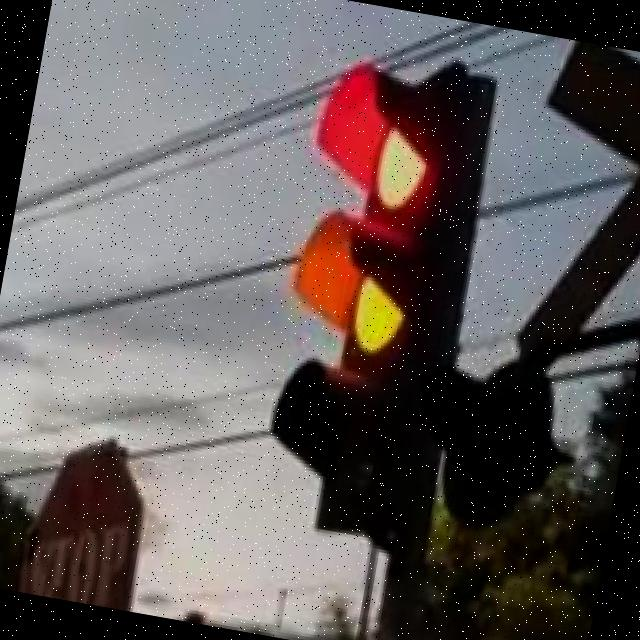Zolte swiatlo: (247, 48, 500, 546)
